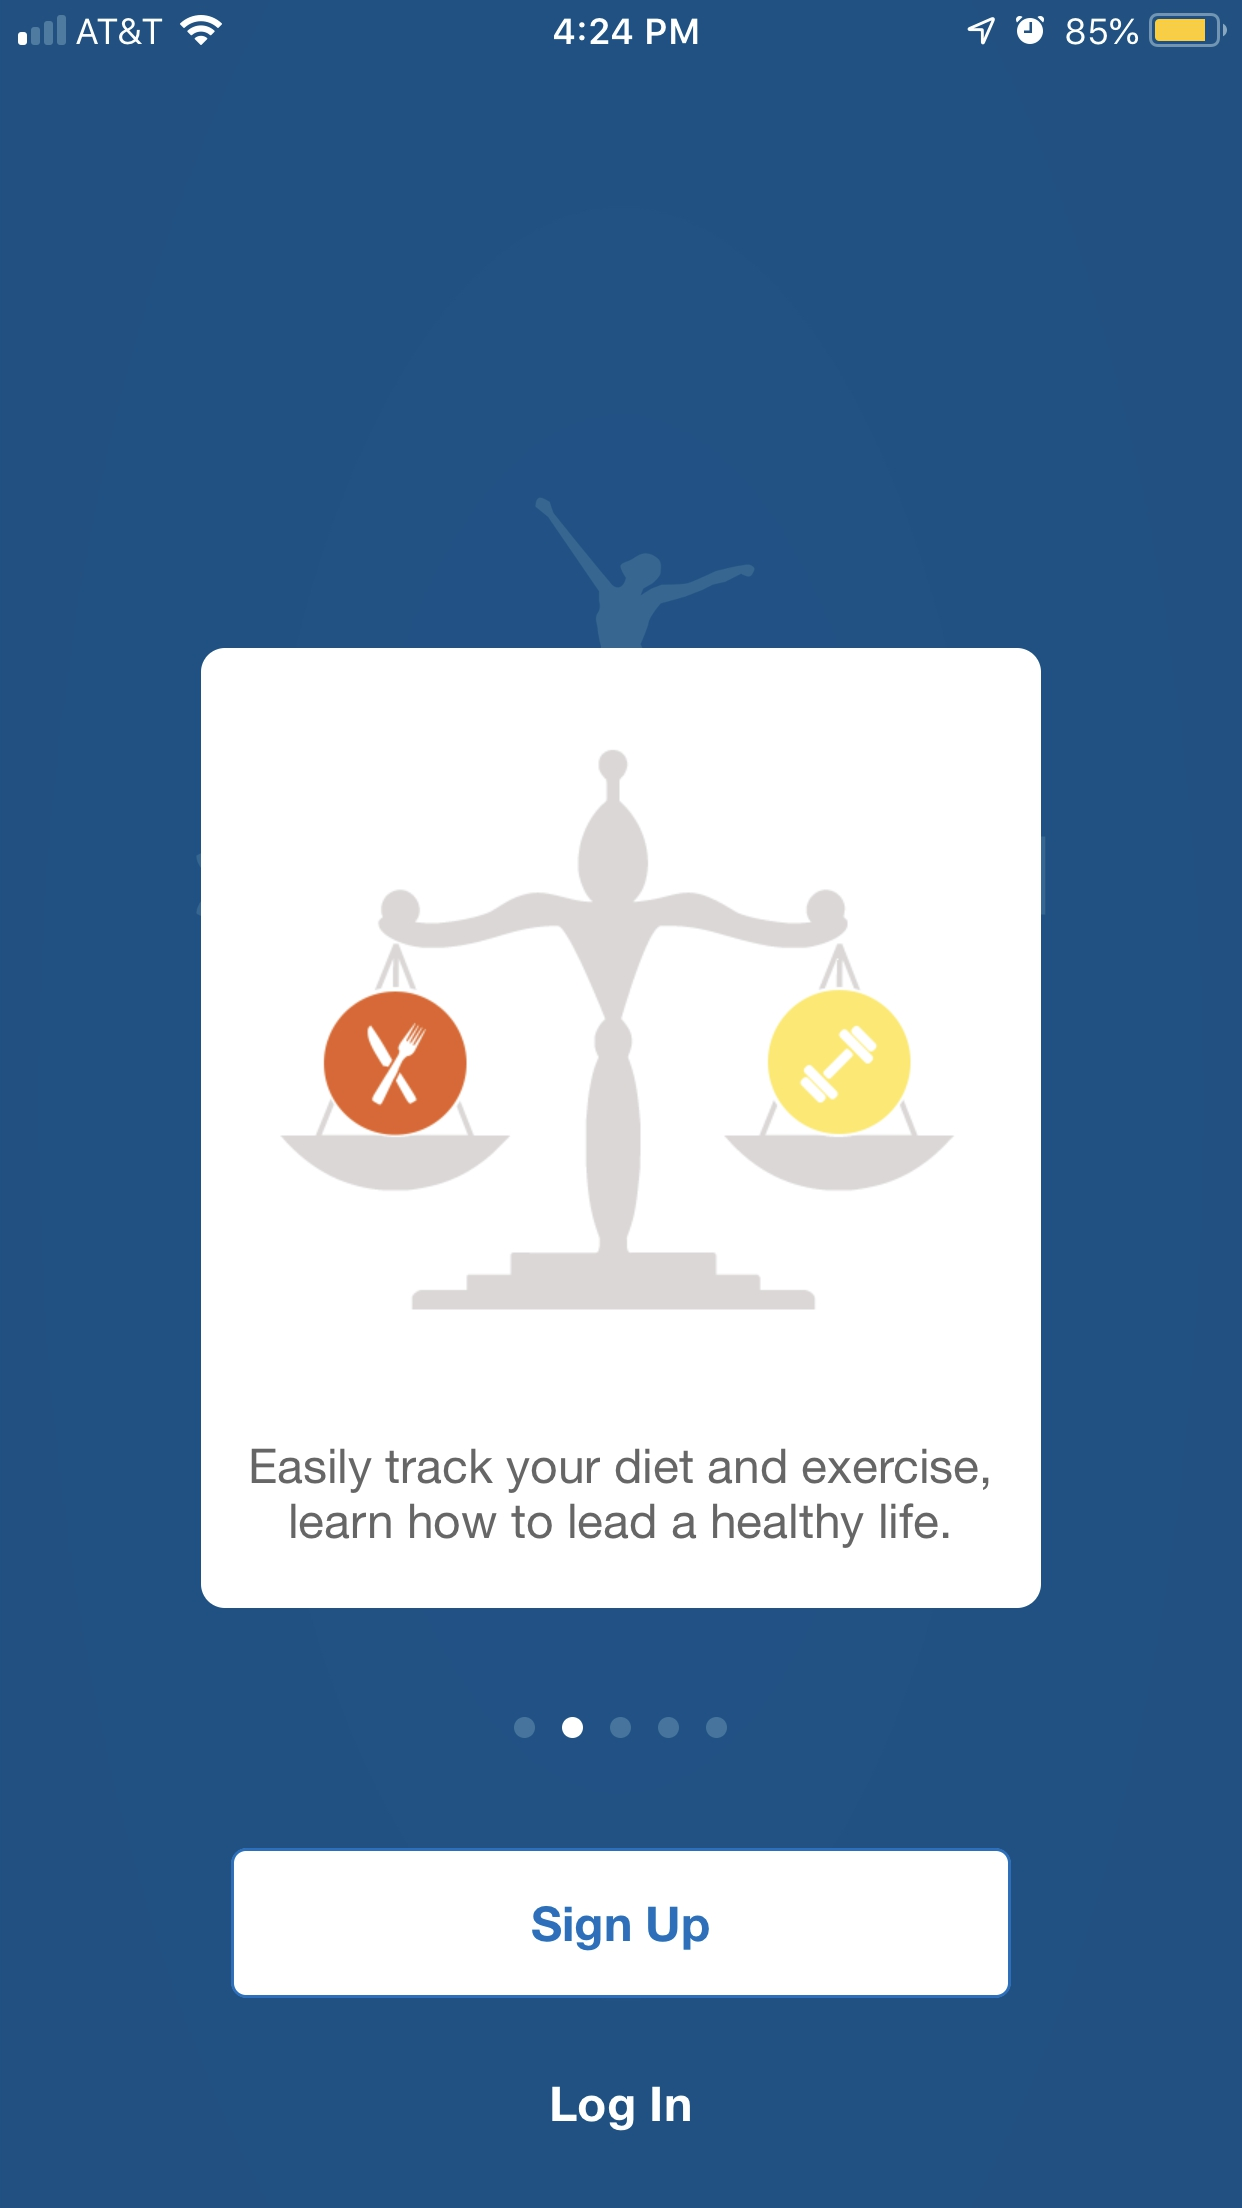Image: (281, 751, 957, 1312), (535, 497, 755, 648)
PageIndicator: (514, 1717, 729, 1739)
Text: (252, 1448, 990, 1548), (550, 2084, 692, 2132)
TextButton: (231, 1847, 1011, 1999)
UpperTaskBar: (2, 2, 1242, 49)
